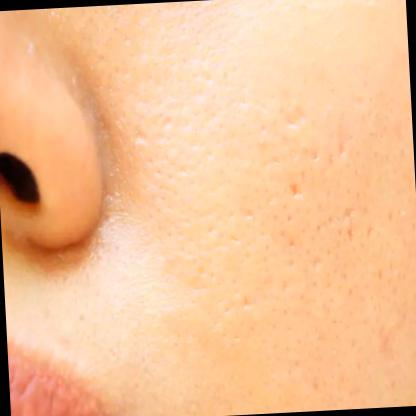Healthy Skin: (97, 0, 416, 416)
